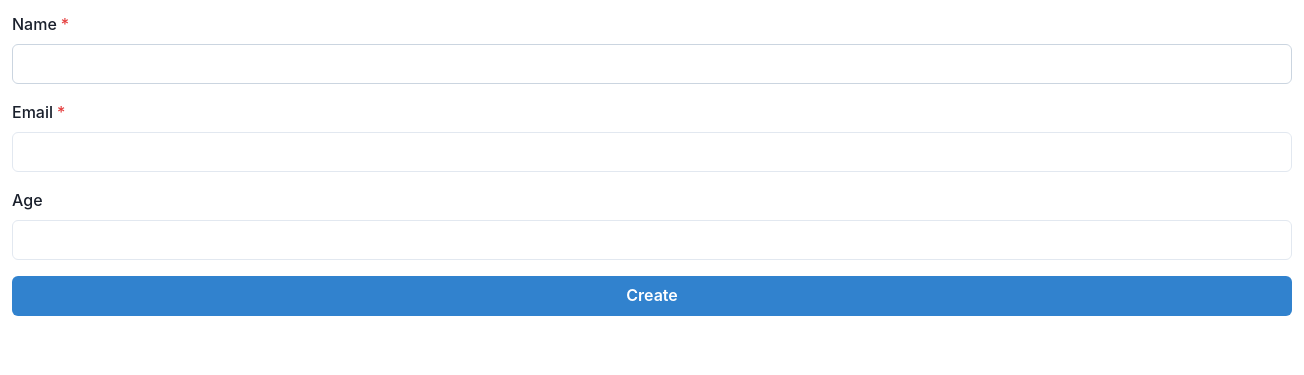
Test: CRUDForm › shows custom validation errors
Type "invalid-email" into the field labelled "Email". click: (652, 152)
box: [12,132,1292,172]
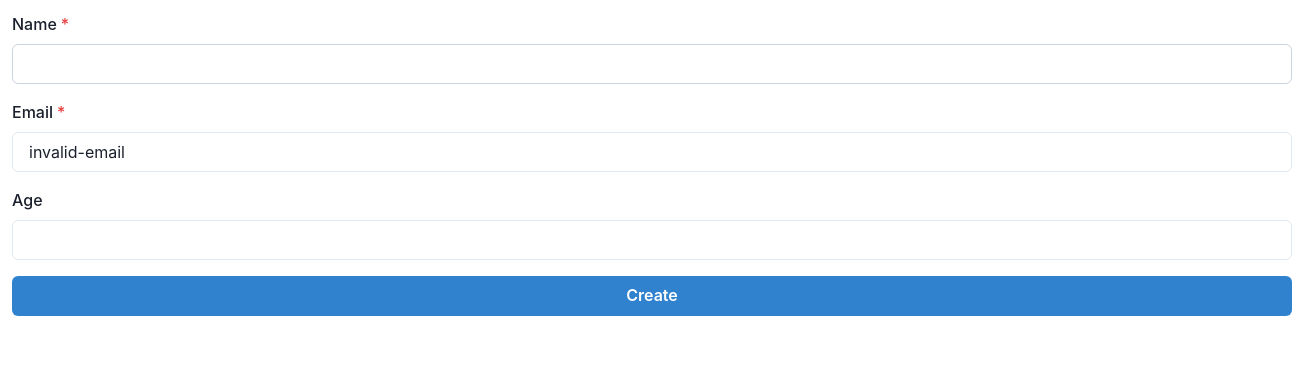
Submit the form
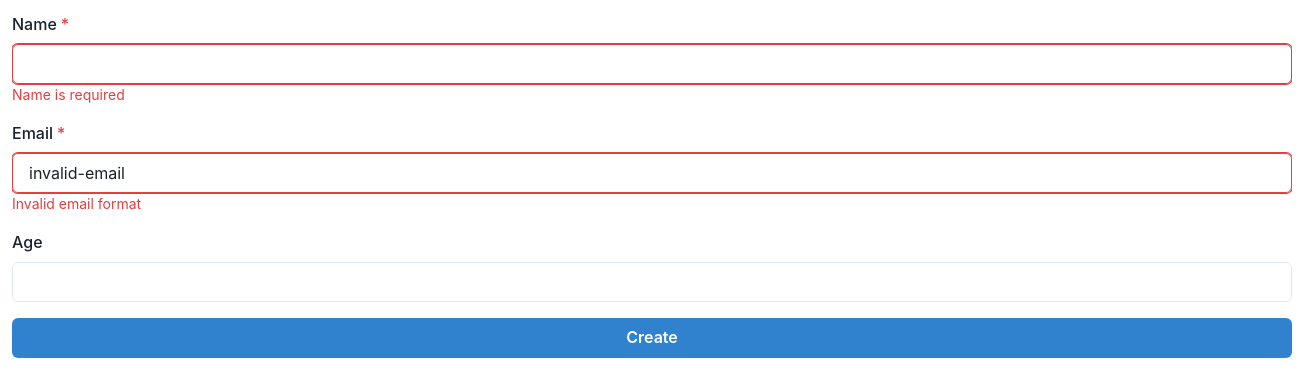
Check: the text "Invalid email format" is shown, box [12,195,141,212]
